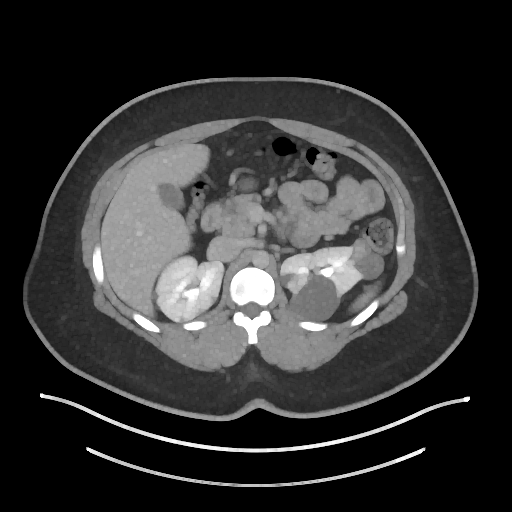Lesion: (346, 233, 374, 265)
